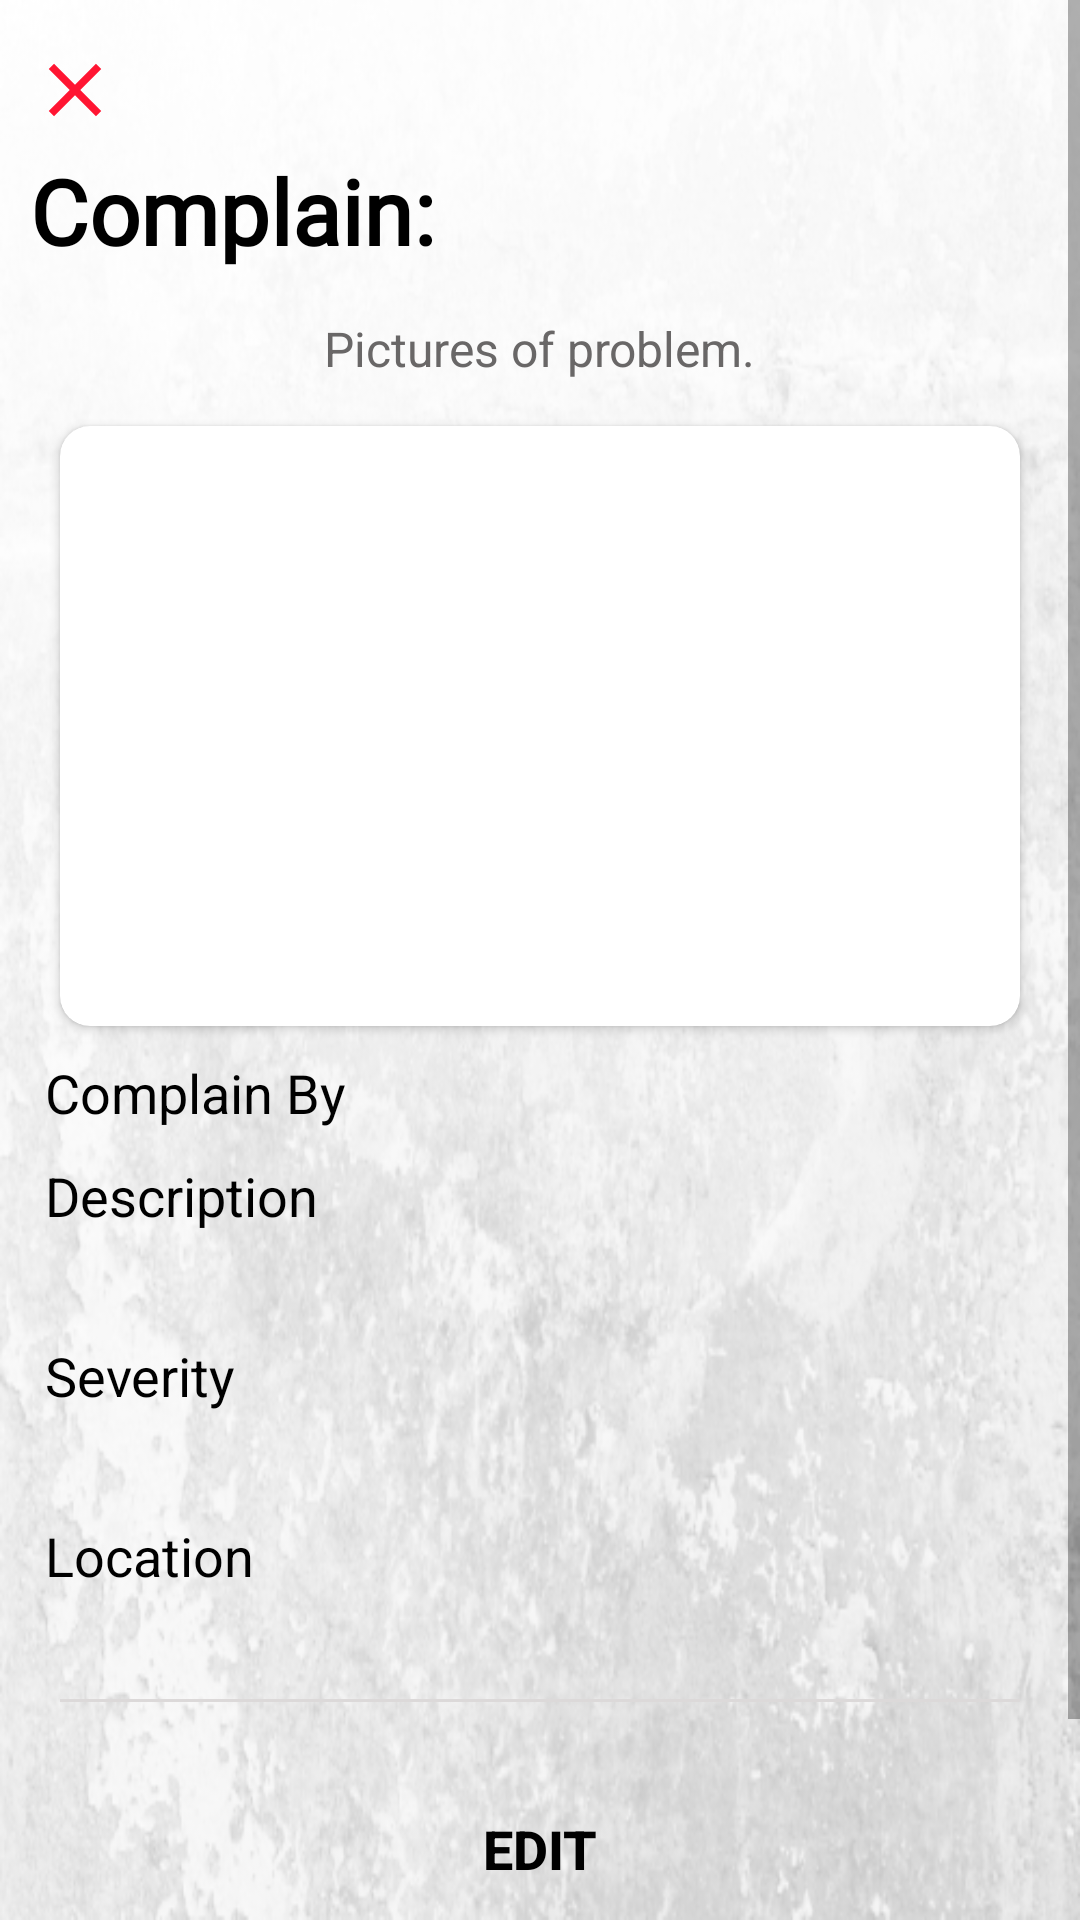

Screen size 1080×1920. Icon name, then its box in pixels as (x1, y1, x2, y2):
close: (49, 64, 101, 116)
